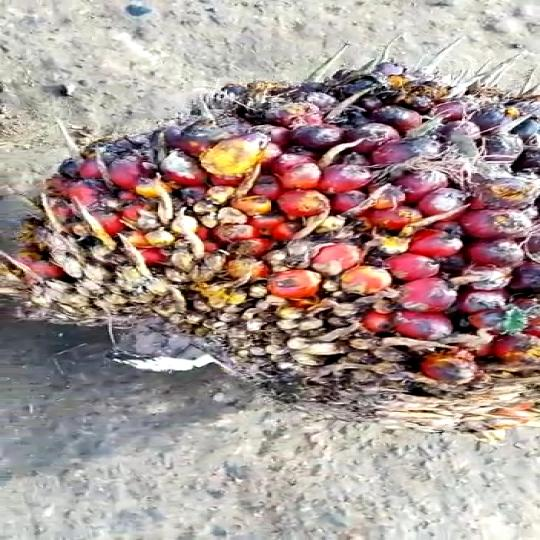masak: (0, 36, 540, 440)
